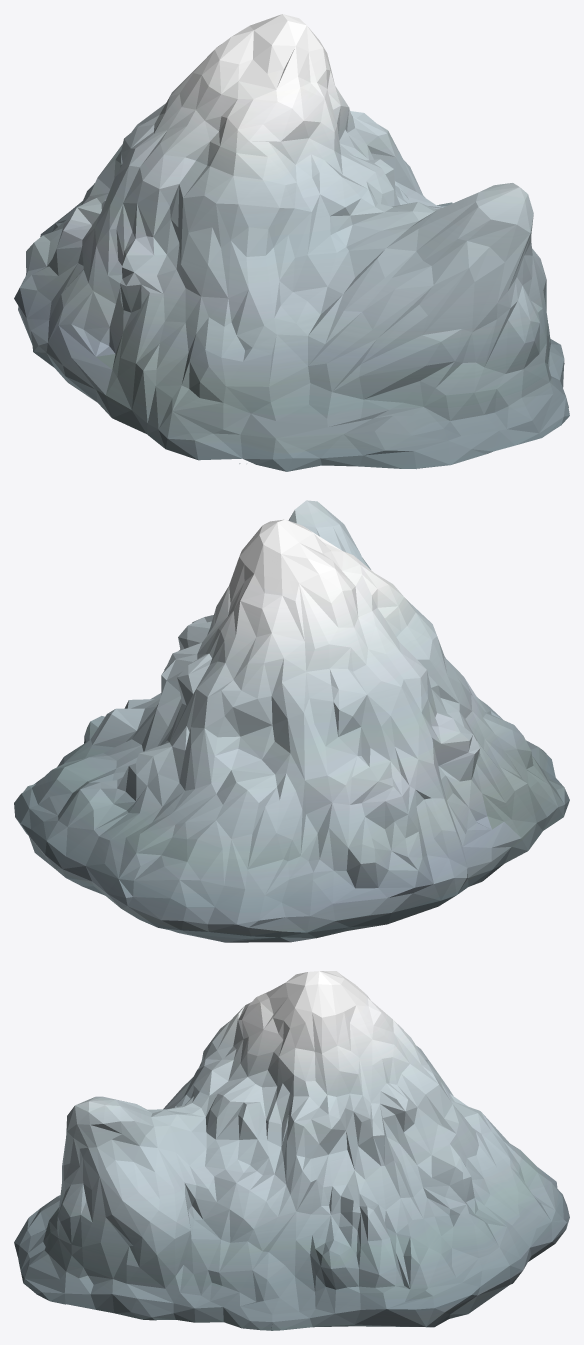
File: low_poly_mountain (1).fbx
3 views of the same model, one above another, from view 1: azimuth 30°, elevation 25°; view 2: azimuth 150°, elevation 25°; view 3: azimuth 270°, elevation 25° (orthographic). The views are drawn at different scales.
Visible parts, largest first — view 1: node_edf58524_fd38_46e4_8e5b_e7d7aa204ec8_mesh0; view 2: node_edf58524_fd38_46e4_8e5b_e7d7aa204ec8_mesh0; view 3: node_edf58524_fd38_46e4_8e5b_e7d7aa204ec8_mesh0.
Part boxes in pixels (left/top/right/bottom): node_edf58524_fd38_46e4_8e5b_e7d7aa204ec8_mesh0: left=14, top=14, right=569, bottom=471; node_edf58524_fd38_46e4_8e5b_e7d7aa204ec8_mesh0: left=14, top=500, right=569, bottom=942; node_edf58524_fd38_46e4_8e5b_e7d7aa204ec8_mesh0: left=14, top=971, right=569, bottom=1330.
Bounding box in the file's own units: 13909 × 9891 × 18094.
Materials: 1 (1 with a texture image).
